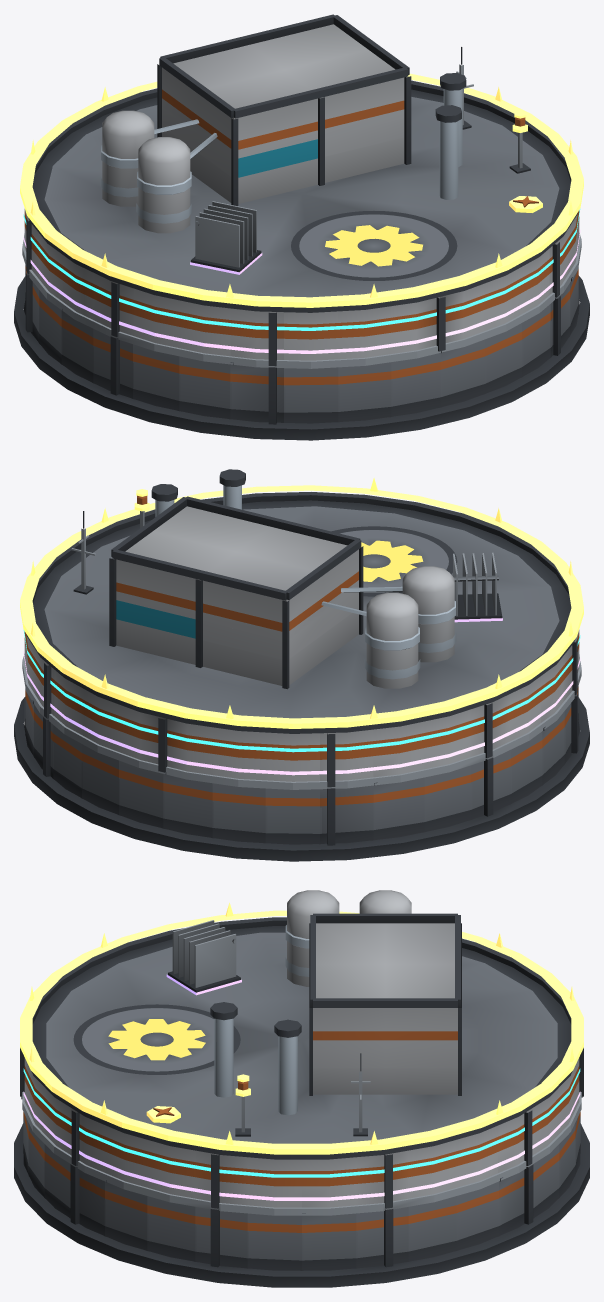
The model's file is superconductor_lab_s_far.glb.
The picture shows the model from 3 angles, top to bottom: view 1: azimuth 30°, elevation 25°; view 2: azimuth 150°, elevation 25°; view 3: azimuth 270°, elevation 25°; orthographic projection.
Visible parts, largest first — view 1: Roof, Base, L5, L4, L2, L3; view 2: Roof, Base, L5, L2, L4, L3; view 3: Roof, Base, L5, L4, L2, L3.
Part boxes in pixels (left/top/right/bottom): Roof: left=24, top=14, right=579, bottom=366; Base: left=14, top=265, right=589, bottom=440; L5: left=20, top=73, right=583, bottom=307; L4: left=23, top=201, right=580, bottom=353; L2: left=22, top=47, right=581, bottom=368; L3: left=23, top=209, right=580, bottom=330; Roof: left=24, top=469, right=579, bottom=787; Base: left=14, top=686, right=589, bottom=861; L5: left=20, top=478, right=583, bottom=728; L2: left=22, top=511, right=581, bottom=789; L4: left=23, top=552, right=580, bottom=775; L3: left=23, top=630, right=580, bottom=752; Roof: left=20, top=890, right=583, bottom=1208; Base: left=14, top=1096, right=589, bottom=1287; L5: left=20, top=902, right=583, bottom=1154; L4: left=23, top=920, right=580, bottom=1200; L2: left=22, top=1053, right=581, bottom=1215; L3: left=23, top=1068, right=580, bottom=1177.
Bounding box in the file's own units: 11.74 × 4.96 × 11.74.
